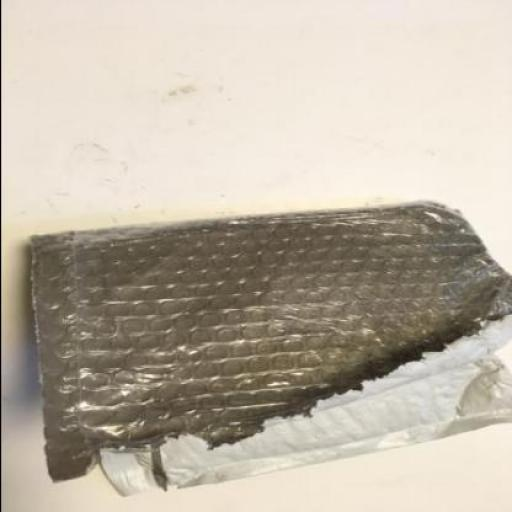plastic: (28, 197, 511, 496)
